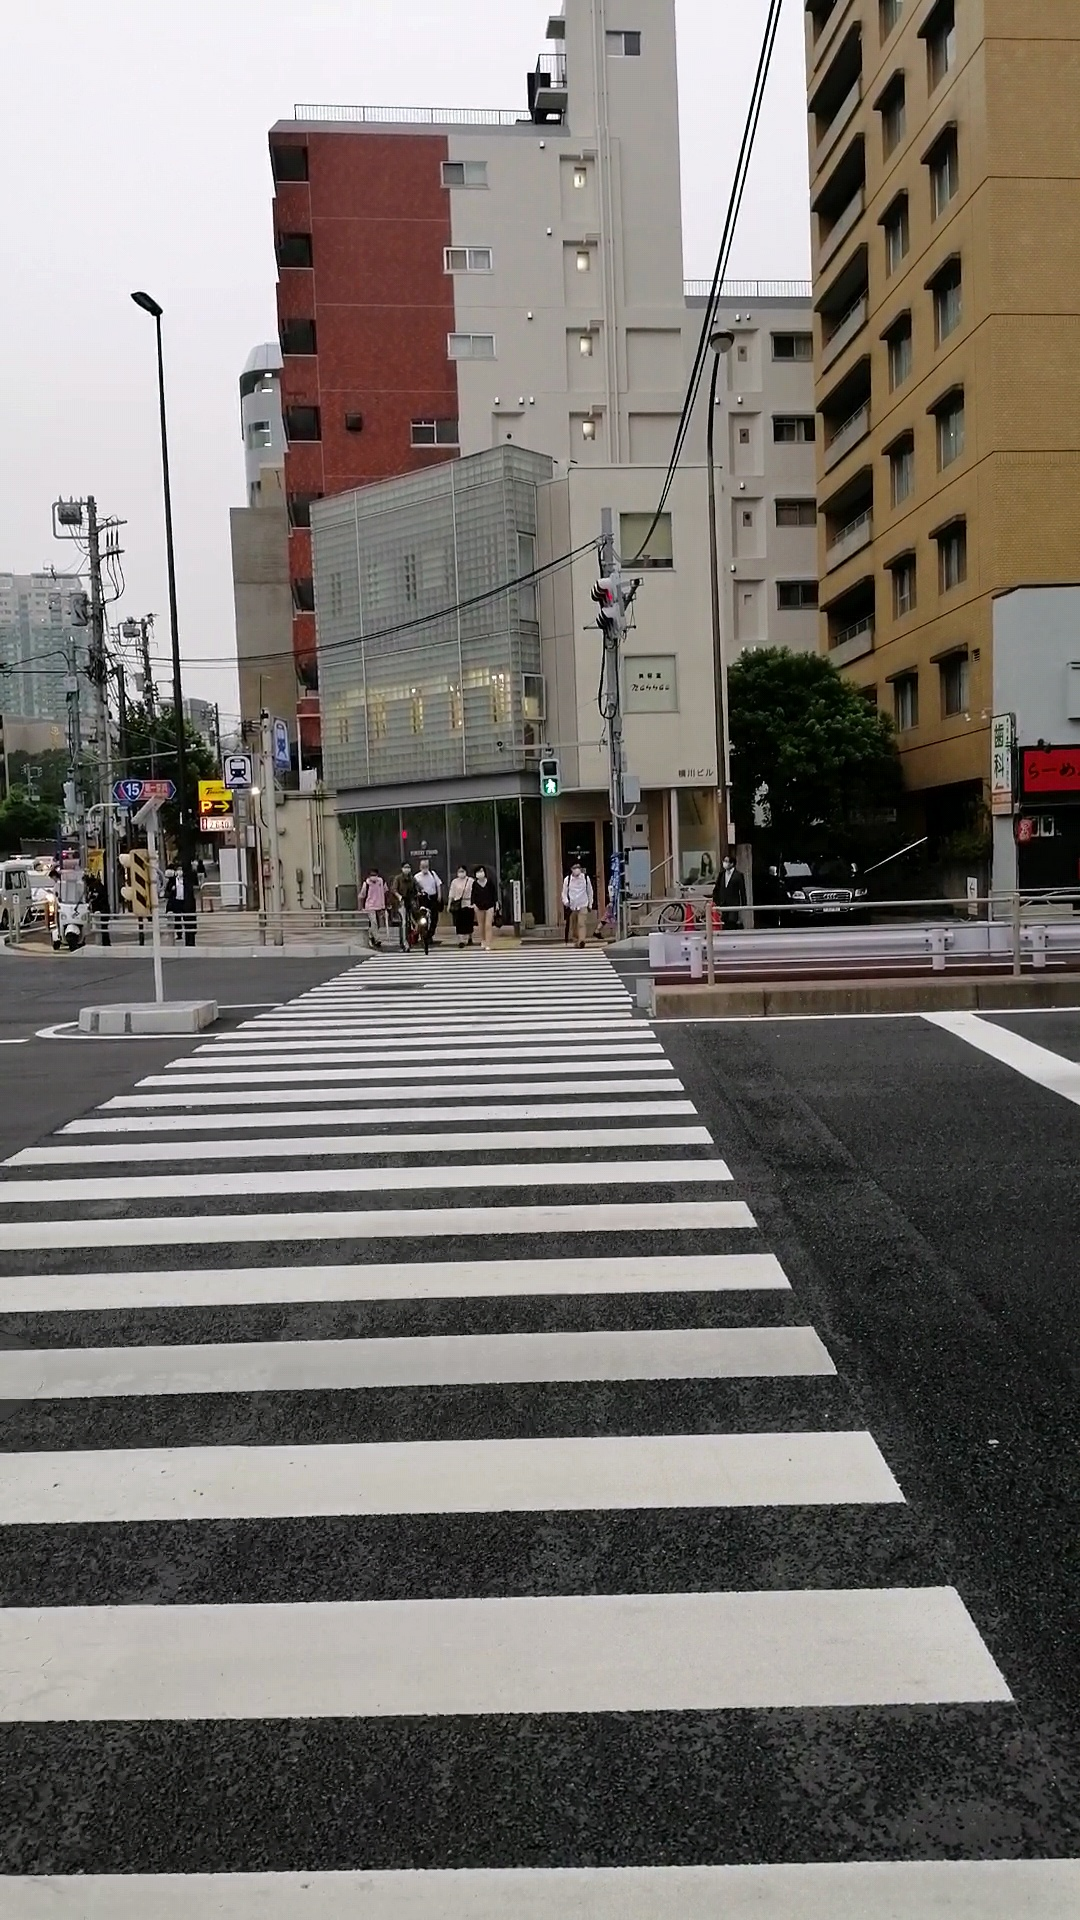green: (541, 757, 560, 796)
